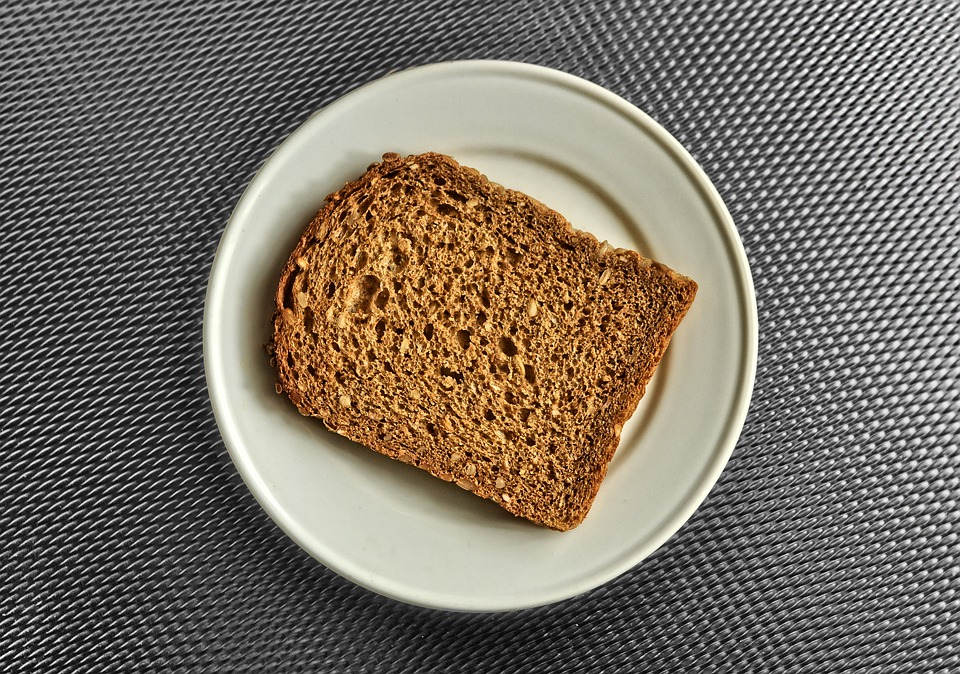slice of bread: (246, 143, 696, 534)
